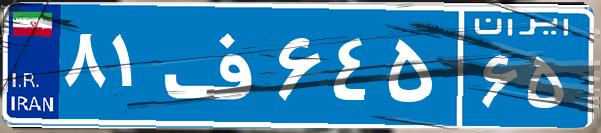1: (110, 28, 158, 105)
4: (330, 28, 385, 110)
5: (385, 28, 445, 110), (525, 38, 570, 115)
6: (273, 28, 330, 110), (475, 38, 525, 113)
8: (57, 26, 110, 107)
ف: (158, 15, 273, 115)
